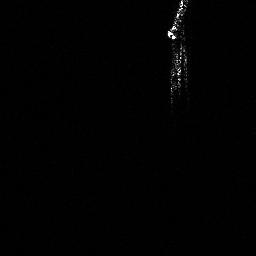ship: (164, 1, 193, 102)
